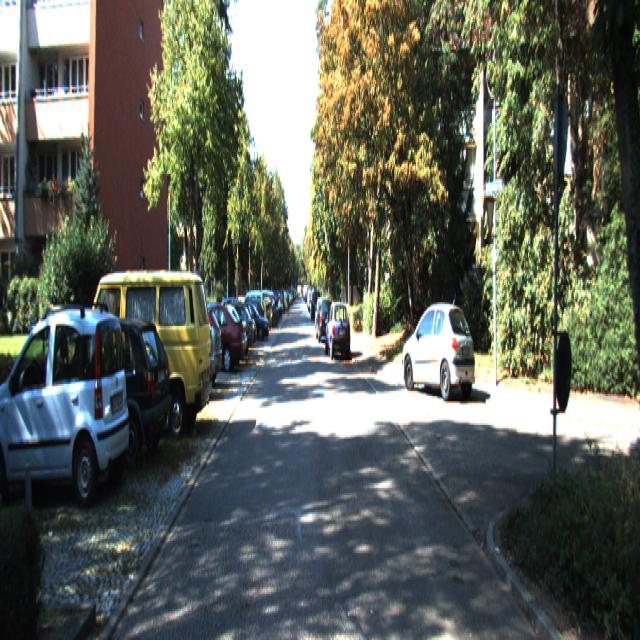Car: (0, 306, 132, 515), (84, 276, 214, 453), (39, 317, 172, 477), (402, 300, 478, 404), (153, 313, 224, 402), (183, 302, 246, 372), (325, 300, 352, 360), (316, 297, 334, 343)
